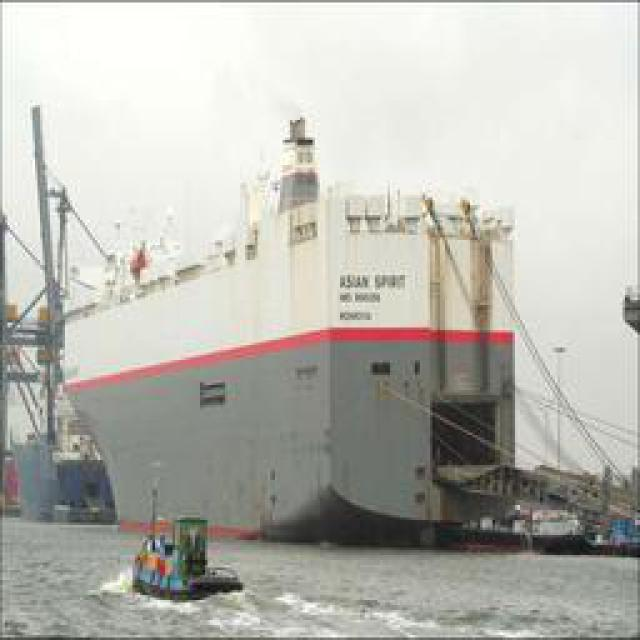Ship: (40, 106, 593, 576)
